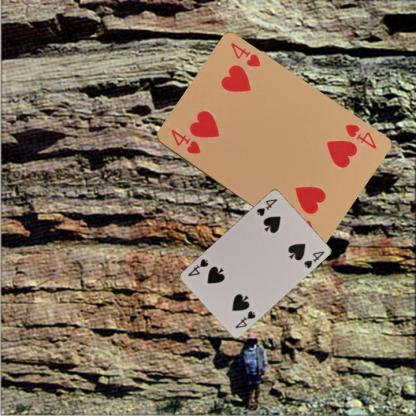4h: (342, 121, 378, 150), (168, 127, 202, 156)
4s: (253, 196, 279, 217), (232, 308, 257, 329)
